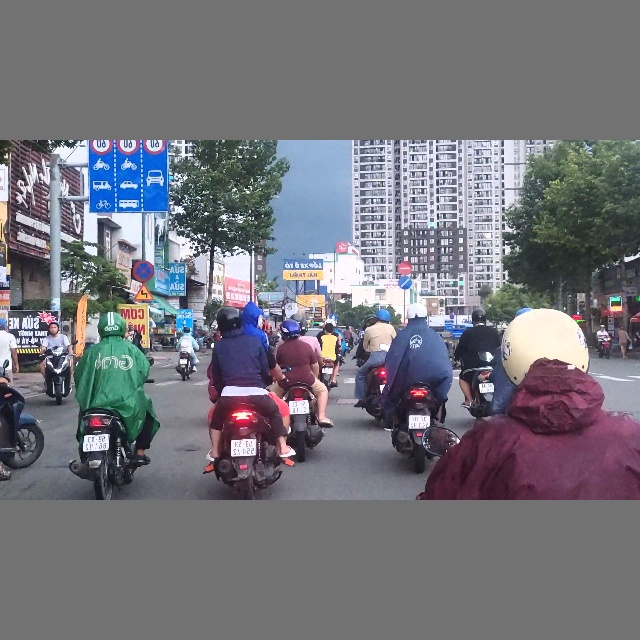I.434a: (263, 308, 270, 317)
P.102: (399, 261, 412, 276)
P.127*60: (116, 140, 140, 155), (89, 140, 112, 155), (144, 140, 165, 154)
P.130: (132, 259, 154, 282)
R.302a: (398, 276, 412, 289)
R.415a: (88, 157, 169, 213)
W.202b: (133, 282, 154, 301)
